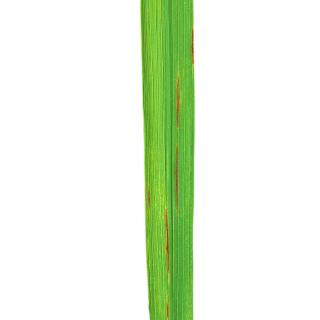Bercak-Cokelat-Sempit: (168, 141, 185, 210), (168, 71, 188, 128), (163, 209, 177, 288), (183, 26, 199, 69), (144, 186, 158, 214), (162, 292, 172, 318)
